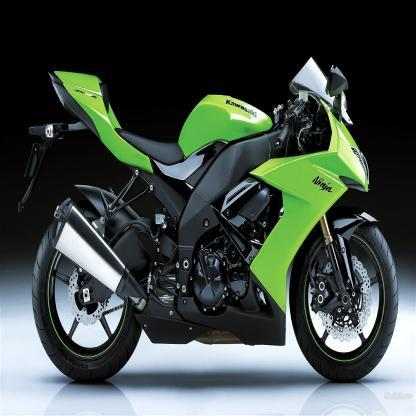Motorcycle: (10, 36, 400, 391)
